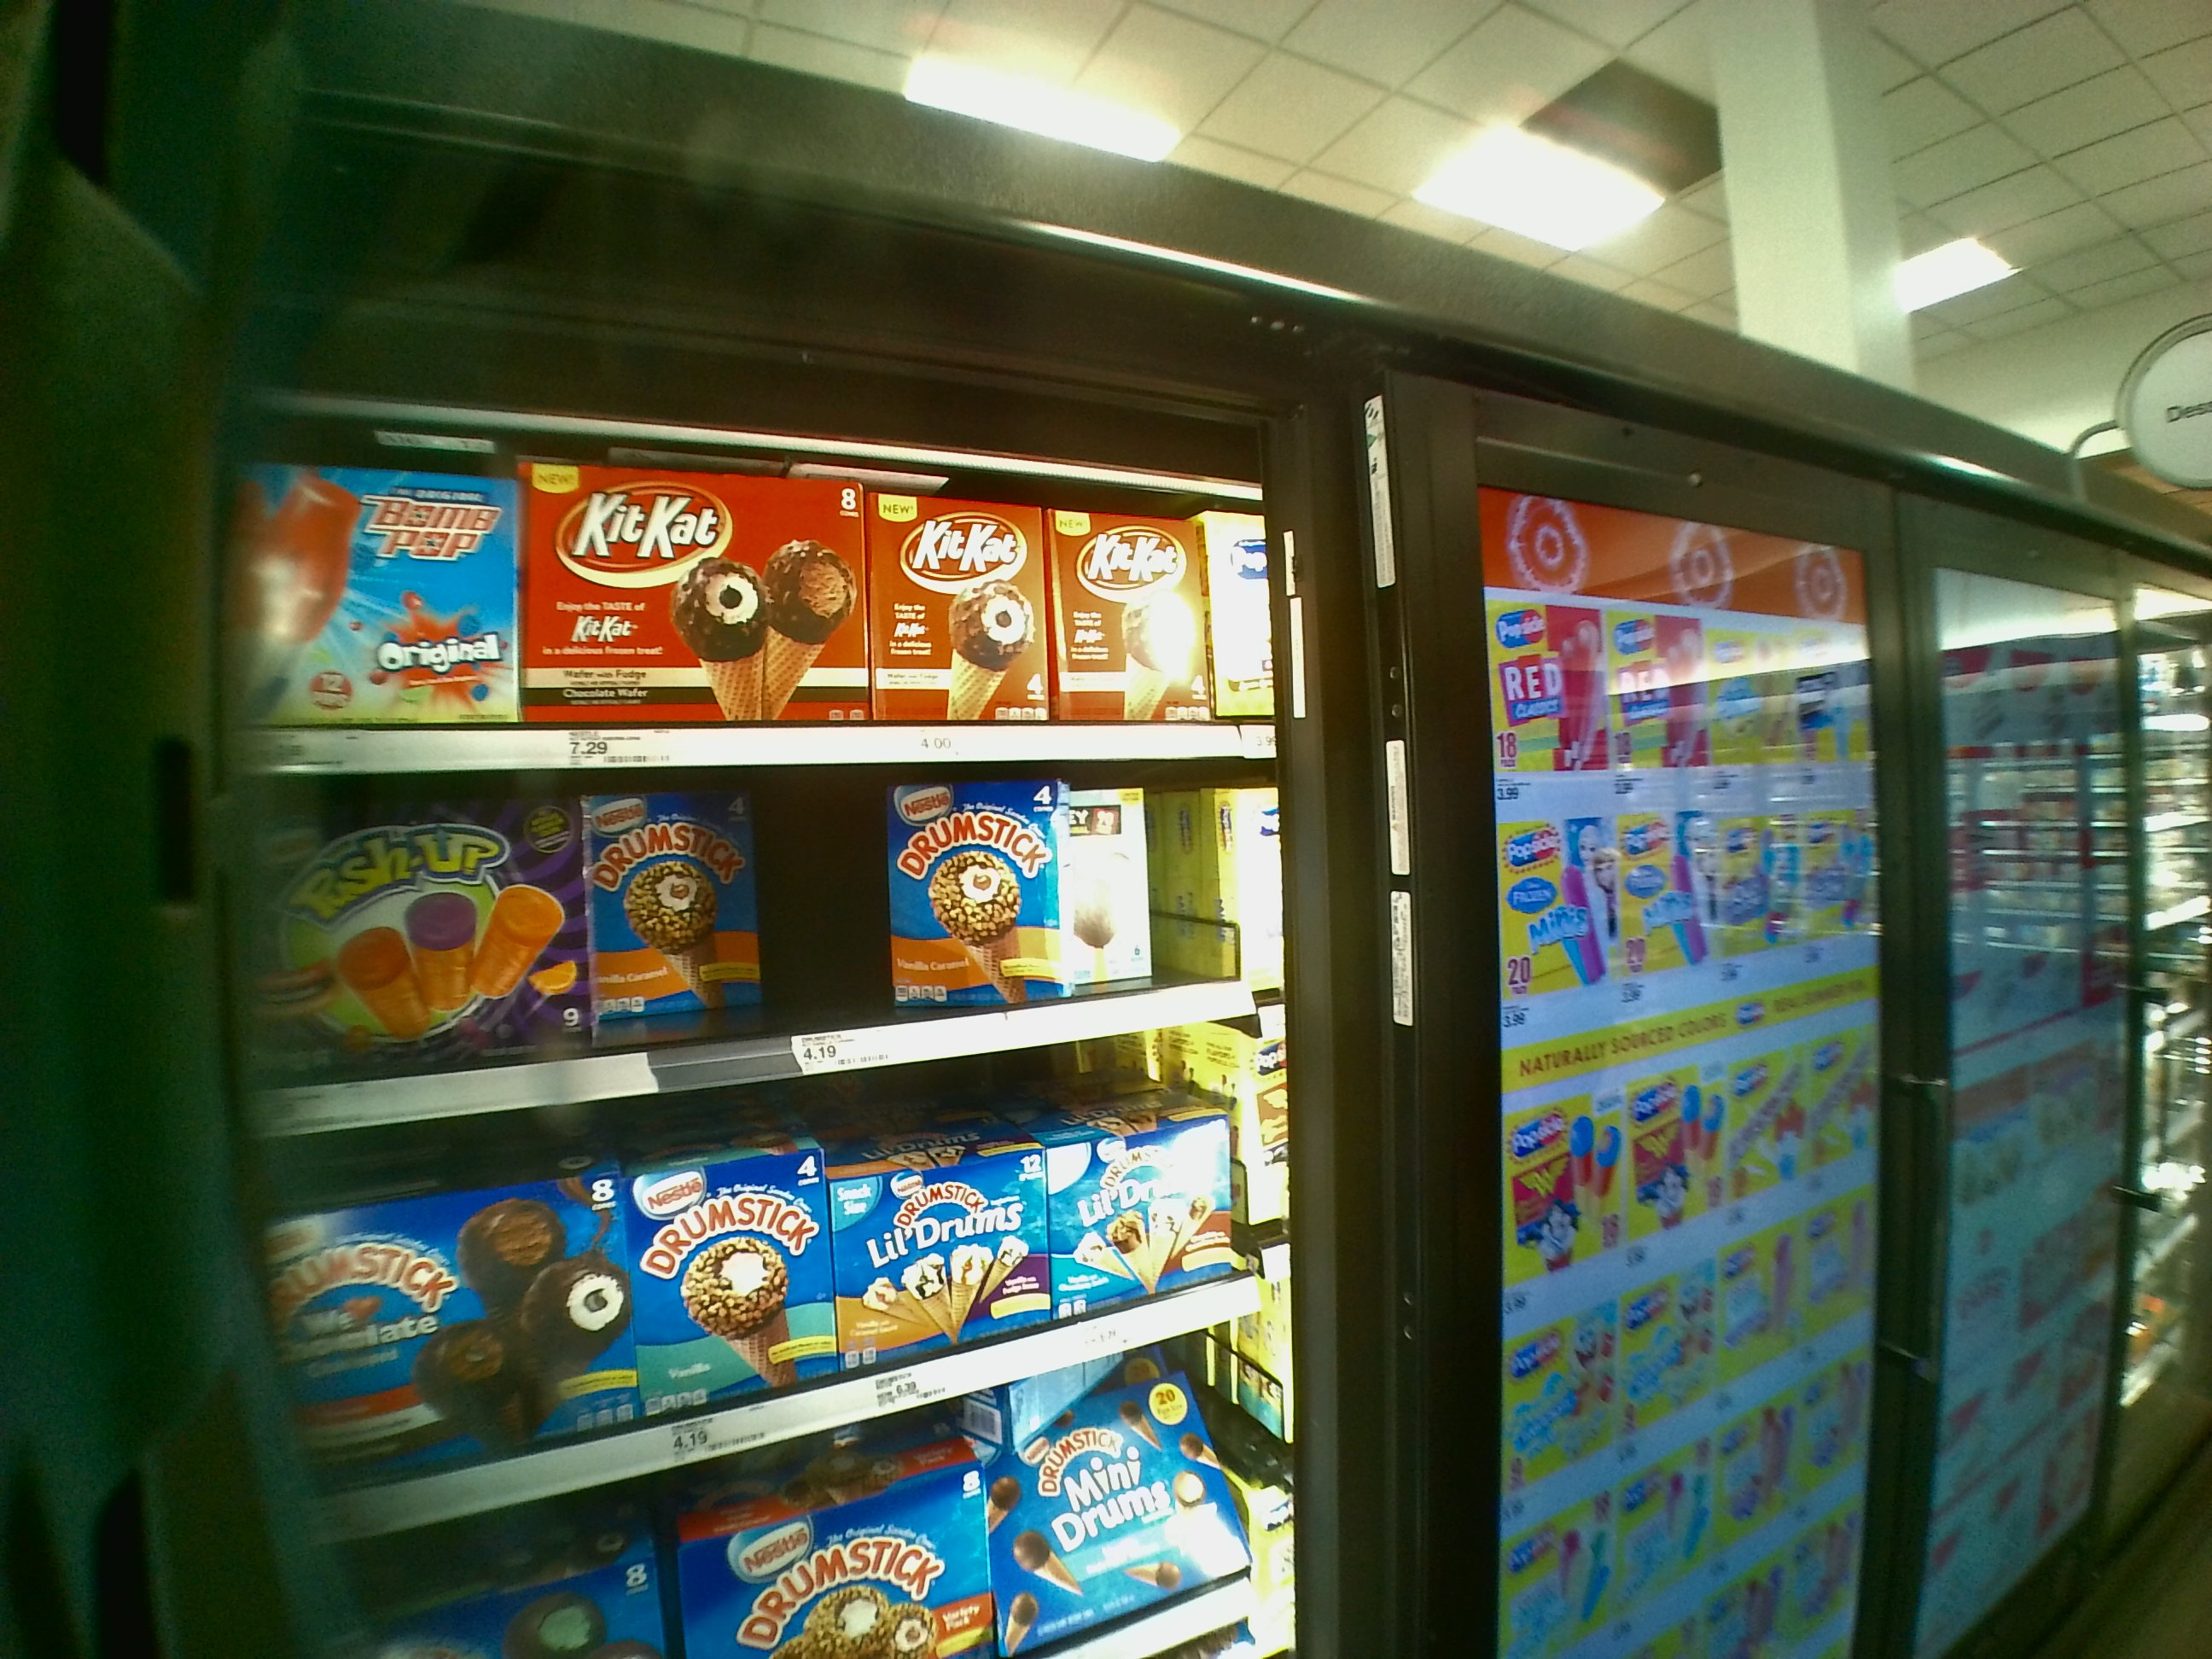shelf: (272, 1042, 1289, 1410), (242, 763, 1289, 1084), (244, 457, 1287, 775)
